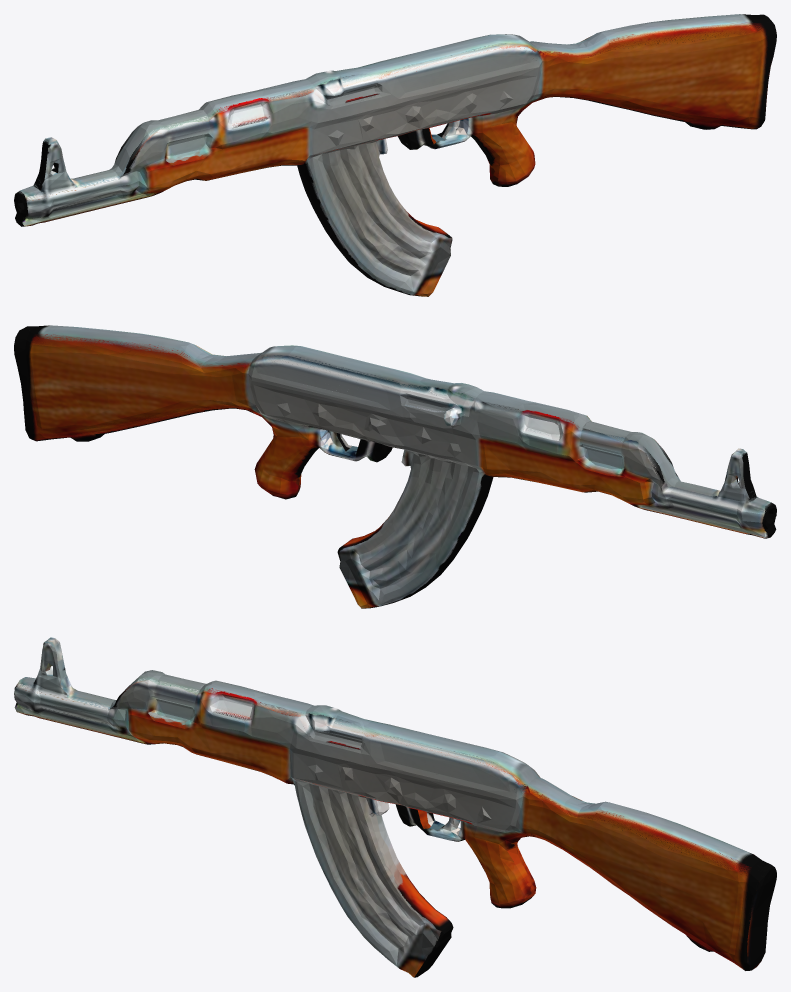
3 renders of one model, top to bottom at view 1: azimuth 30°, elevation 25°; view 2: azimuth 150°, elevation 25°; view 3: azimuth 330°, elevation 25°, orthographic.
Visible parts, largest first — view 1: temp_mesh.ply; view 2: temp_mesh.ply; view 3: temp_mesh.ply.
Boxes of the visible parts, box(x1,y1,x2,y2) form: temp_mesh.ply: box(14, 14, 776, 296); temp_mesh.ply: box(14, 325, 776, 608); temp_mesh.ply: box(14, 637, 776, 977).
Size of the model in its own units: 1.97 by 0.6161 by 0.1324.
1 material, 1 textured.
